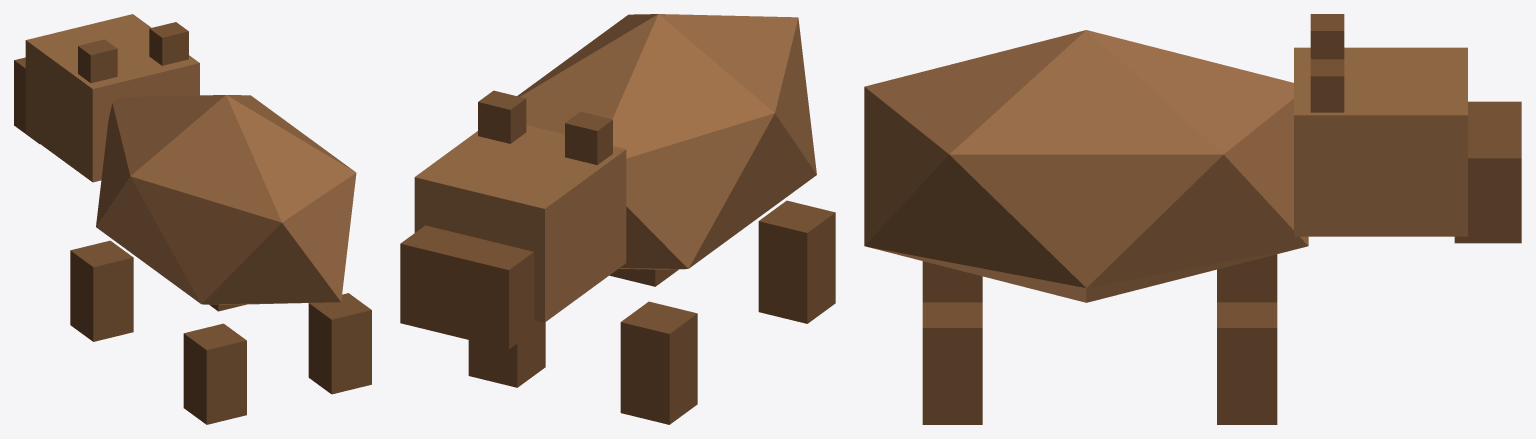
The model's file is capivara.glb.
3 renders of one model, left to right at view 1: azimuth 30°, elevation 25°; view 2: azimuth 150°, elevation 25°; view 3: azimuth 270°, elevation 25°, orthographic. The views are drawn at different scales.
Visible parts, largest first — view 1: corpo; view 2: corpo; view 3: corpo.
Boxes of the visible parts, box(x1,y1,x2,y2) form: corpo: box(14, 14, 371, 424); corpo: box(400, 14, 835, 424); corpo: box(864, 14, 1521, 424).
Size of the model in its own units: 0.2147 by 0.2825 by 0.4909.
